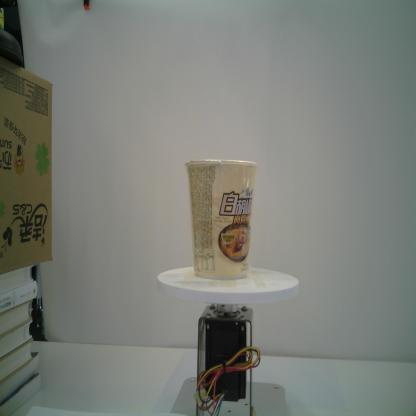Instant Noodles: (185, 156, 260, 282)
